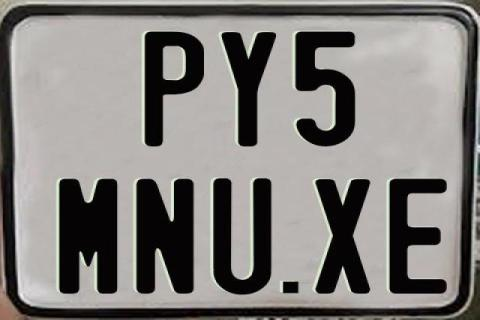0: (292, 29, 357, 147)
E: (386, 178, 450, 294)
M: (57, 178, 121, 298)
N: (133, 178, 195, 296)
P: (144, 31, 206, 151)
U: (213, 176, 274, 294)
X: (313, 177, 369, 291)
Y: (219, 30, 280, 148)
